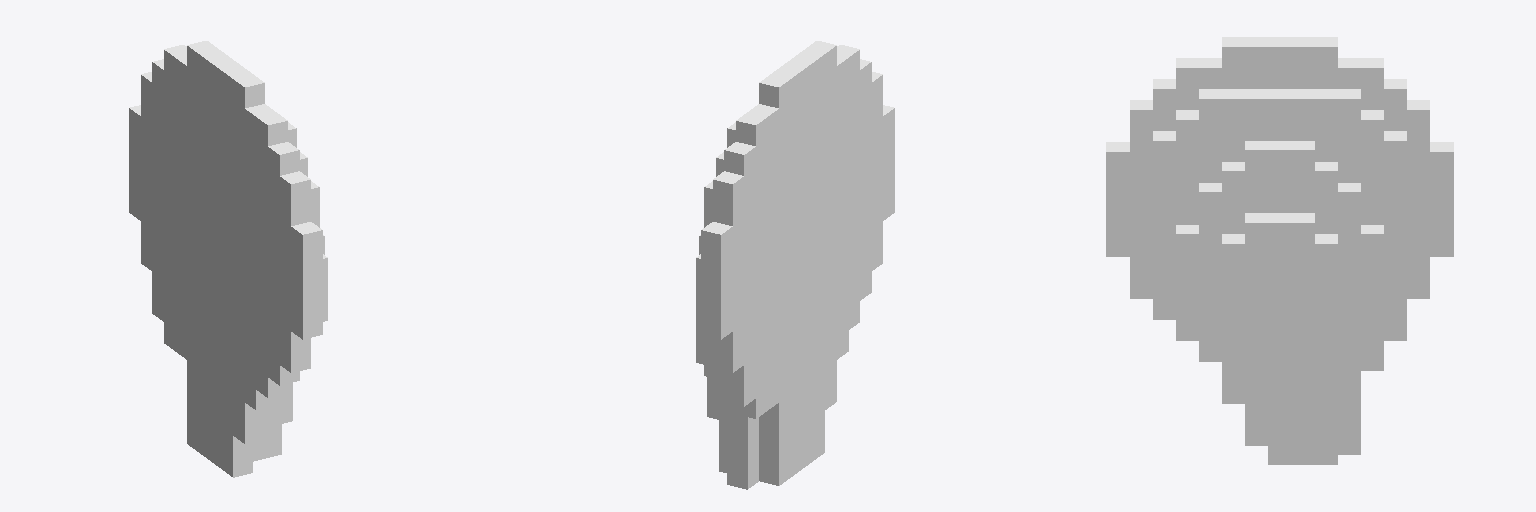
The model's file is Bernard_Leg_Front_Left_Upper.obj.
The picture shows the model from 3 angles: view 1: azimuth 30°, elevation 25°; view 2: azimuth 150°, elevation 25°; view 3: azimuth 270°, elevation 25°; orthographic projection.
Visible parts, largest first — view 1: Bernard; view 2: Bernard; view 3: Bernard.
Boxes of the visible parts, box(x1,y1,x2,y2) form: Bernard: box(129, 41, 327, 477); Bernard: box(696, 41, 894, 489); Bernard: box(1106, 37, 1453, 464).
Bounding box in the file's own units: 0.4 × 1.9 × 1.5.